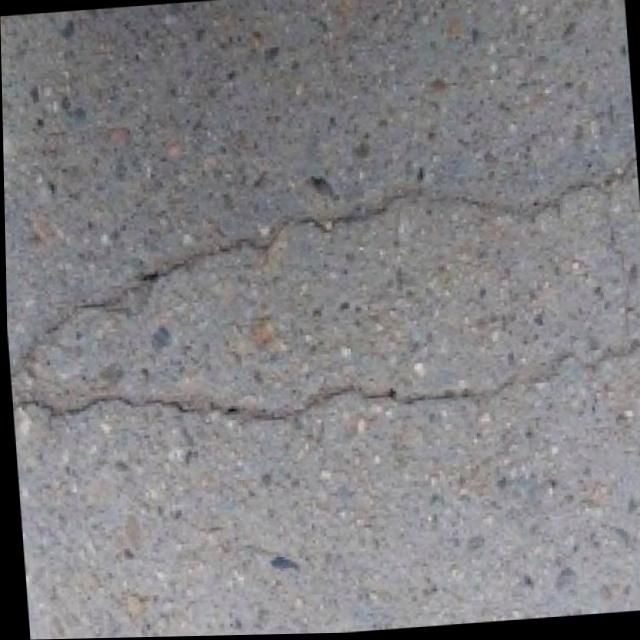Crack: (3, 168, 640, 464)
